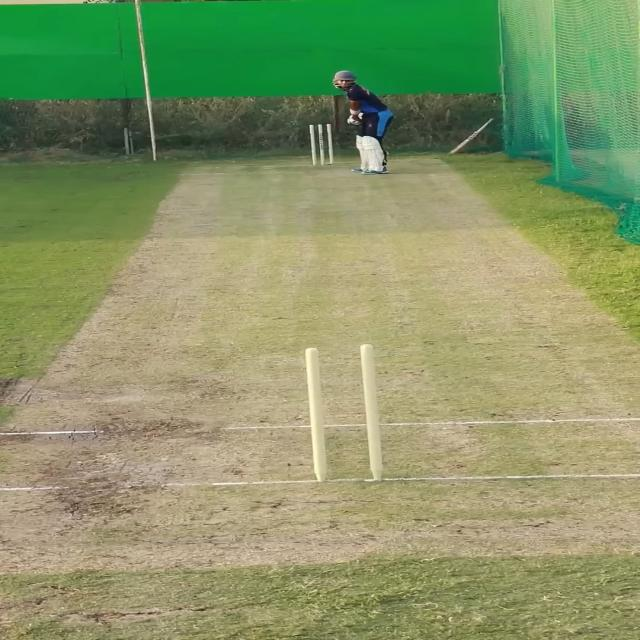stump: (301, 344, 385, 483), (308, 124, 335, 164)
